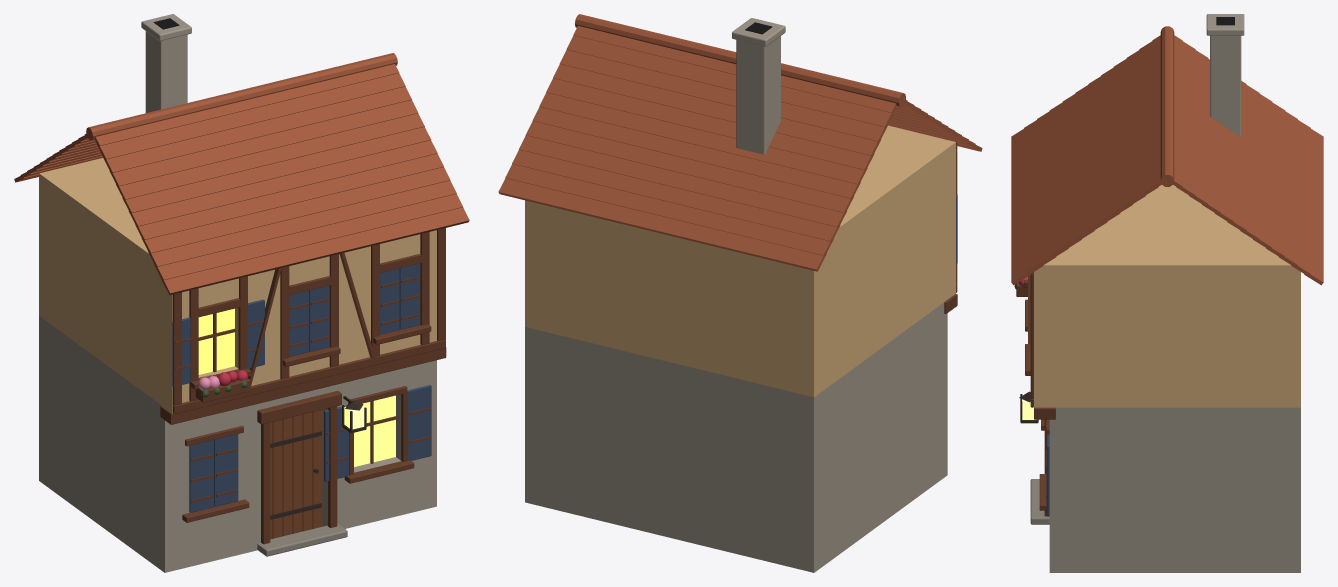
File: casa_5x4.glb
The picture shows the model from 3 angles, left to right: view 1: azimuth 30°, elevation 25°; view 2: azimuth 150°, elevation 25°; view 3: azimuth 270°, elevation 25°; orthographic projection. The views are drawn at different scales.
Visible parts, largest first — view 1: casa_5x4_pa_dentro, casa_5x4_pb_dentro, casa_5x4_pb, casa_5x4_tejado_s_0, casa_5x4_tejado_s_3, casa_5x4_tejado_s_5, casa_5x4_tejado_s_7, casa_5x4_tejado_s_8, casa_5x4_tejado_s_9, casa_5x4_tejado_s_2, casa_5x4_tejado_s_4, casa_5x4_tejado_s_6 (+56 smaller); view 2: casa_5x4_pb_dentro, casa_5x4_pa_dentro, casa_5x4_tejado_n_0, casa_5x4_tejado_n_3, casa_5x4_tejado_n_4, casa_5x4_tejado_n_5, casa_5x4_tejado_n_2, casa_5x4_tejado_n_1, casa_5x4_tejado_n_6, casa_5x4_tejado_n_7, casa_5x4_chimenea0, casa_5x4_tejado_n_8 (+7 smaller); view 3: casa_5x4_pa_dentro, casa_5x4_pb_dentro, casa_5x4_pb.008, casa_5x4_chimenea0, casa_5x4_tejado_cumbrera, casa_5x4_pa.009, casa_5x4_tejado_n_9, casa_5x4_tejado_n_4, casa_5x4_tejado_s_9, casa_5x4_tejado_s_10, casa_5x4_tejado_n_5, casa_5x4_tejado_n_10 (+21 smaller).
Boxes of the visible parts, x1=… form: casa_5x4_pa_dentro: x1=39, y1=158, x2=164, y2=407; casa_5x4_pb_dentro: x1=39, y1=316, x2=155, y2=565; casa_5x4_pb: x1=155, y1=401, x2=189, y2=572; casa_5x4_tejado_s_0: x1=161, y1=207, x2=469, y2=295; casa_5x4_tejado_s_3: x1=141, y1=167, x2=450, y2=254; casa_5x4_tejado_s_5: x1=128, y1=140, x2=437, y2=227; casa_5x4_tejado_s_7: x1=116, y1=113, x2=424, y2=200; casa_5x4_tejado_s_8: x1=109, y1=100, x2=418, y2=186; casa_5x4_tejado_s_9: x1=103, y1=86, x2=411, y2=173; casa_5x4_tejado_s_2: x1=148, y1=180, x2=456, y2=267; casa_5x4_tejado_s_4: x1=135, y1=153, x2=443, y2=240; casa_5x4_tejado_s_6: x1=122, y1=127, x2=431, y2=212; casa_5x4_pb_dentro: x1=525, y1=307, x2=937, y2=572; casa_5x4_pa_dentro: x1=525, y1=133, x2=947, y2=397; casa_5x4_tejado_n_0: x1=498, y1=178, x2=826, y2=271; casa_5x4_tejado_n_3: x1=519, y1=135, x2=846, y2=228; casa_5x4_tejado_n_4: x1=526, y1=121, x2=853, y2=213; casa_5x4_tejado_n_5: x1=532, y1=107, x2=860, y2=198; casa_5x4_tejado_n_2: x1=512, y1=149, x2=840, y2=241; casa_5x4_tejado_n_1: x1=505, y1=164, x2=833, y2=255; casa_5x4_tejado_n_6: x1=539, y1=92, x2=867, y2=185; casa_5x4_tejado_n_7: x1=546, y1=78, x2=874, y2=170; casa_5x4_chimenea0: x1=736, y1=36, x2=780, y2=154; casa_5x4_tejado_n_8: x1=553, y1=64, x2=881, y2=157; casa_5x4_pa_dentro: x1=1049, y1=185, x2=1300, y2=407; casa_5x4_pb_dentro: x1=1068, y1=407, x2=1300, y2=572; casa_5x4_pb.008: x1=1049, y1=407, x2=1068, y2=572; casa_5x4_chimenea0: x1=1210, y1=35, x2=1241, y2=137; casa_5x4_tejado_cumbrera: x1=1160, y1=26, x2=1174, y2=186; casa_5x4_pa.009: x1=1034, y1=261, x2=1049, y2=407; casa_5x4_tejado_n_9: x1=1189, y1=50, x2=1208, y2=206; casa_5x4_tejado_n_4: x1=1253, y1=94, x2=1272, y2=249; casa_5x4_tejado_s_9: x1=1126, y1=50, x2=1145, y2=206; casa_5x4_tejado_s_10: x1=1139, y1=41, x2=1158, y2=197; casa_5x4_tejado_n_5: x1=1240, y1=85, x2=1259, y2=239; casa_5x4_tejado_n_10: x1=1176, y1=41, x2=1195, y2=196.
Bounding box in the file's own units: 5.6 × 8.13 × 4.97.
